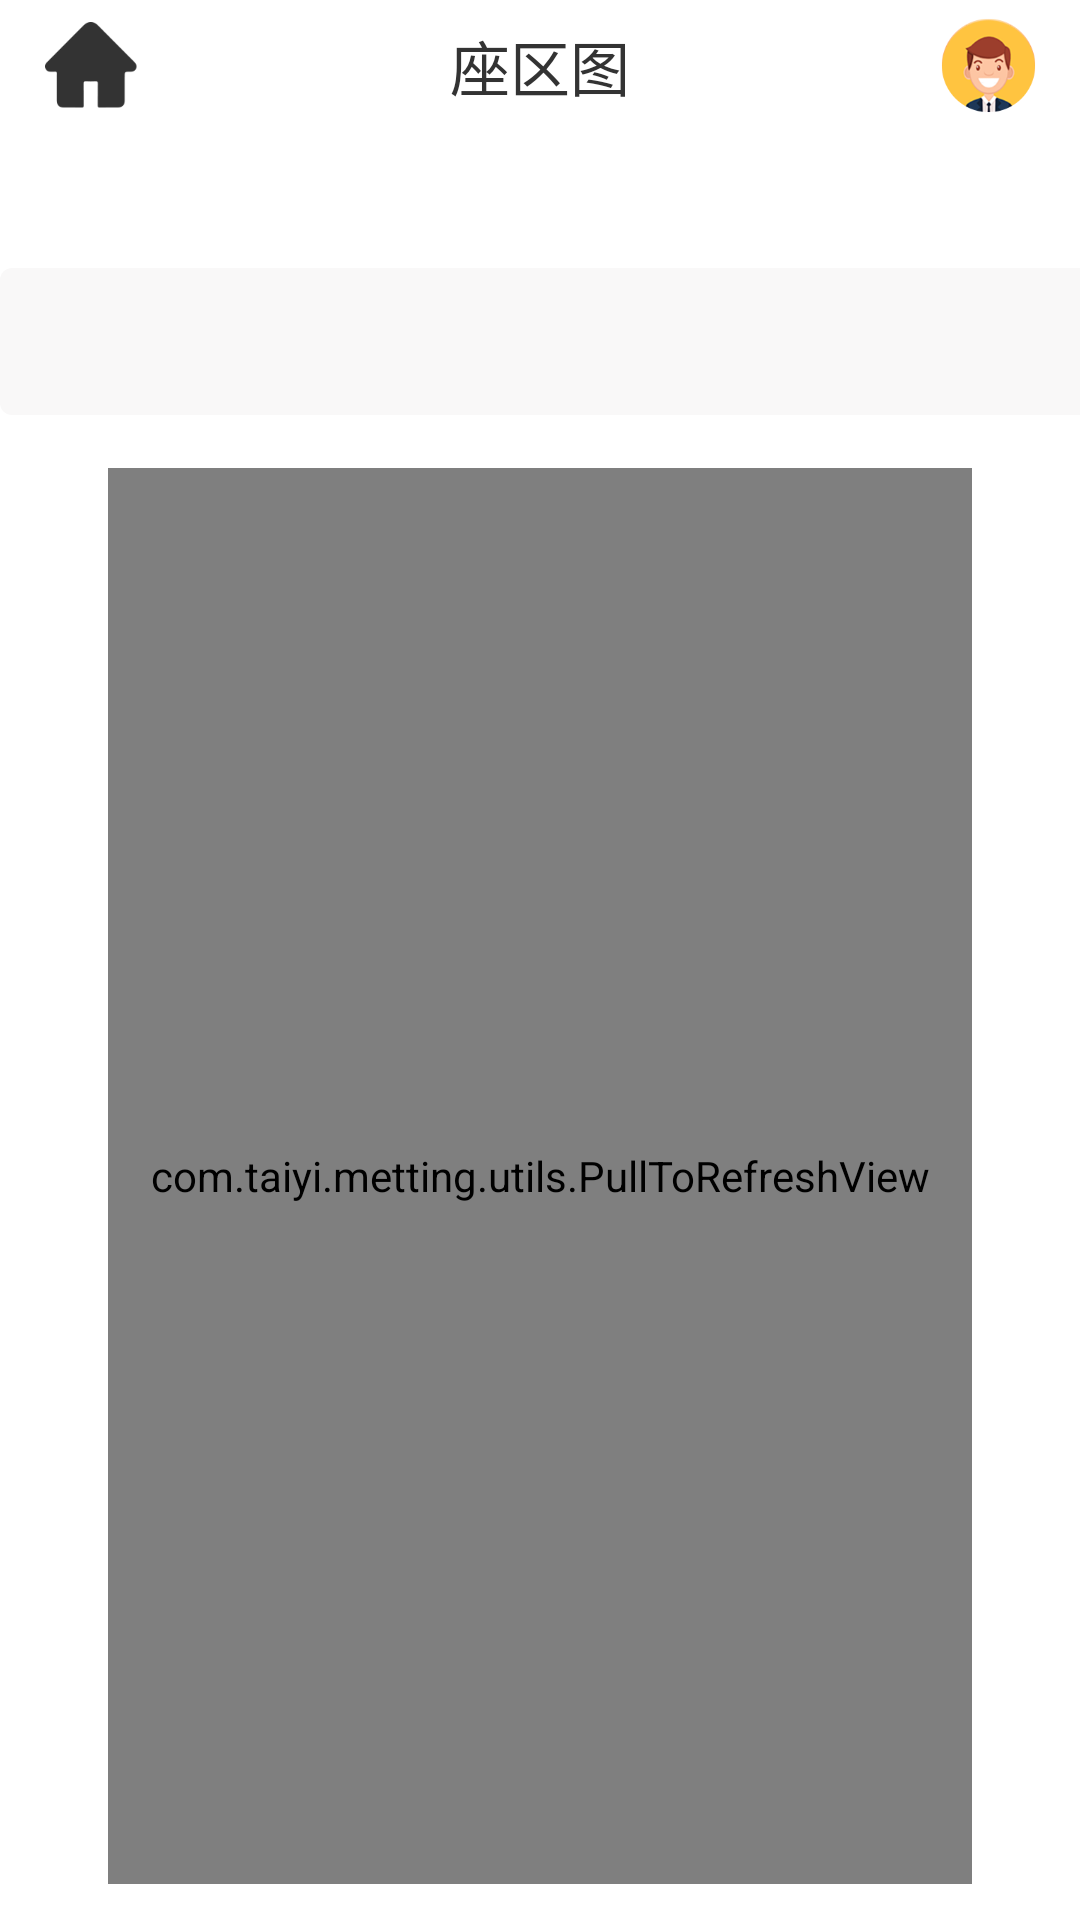

Icon bounding boxes for this 1080 × 1920 phone screenshot, format (x1, y1, x2, y2):
home: (45, 22, 137, 108)
mine: (942, 19, 1035, 112)
